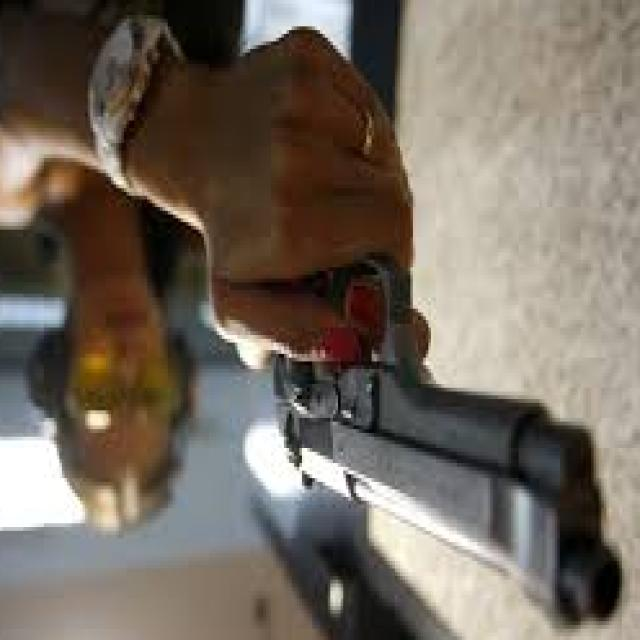gun: (238, 203, 632, 640)
